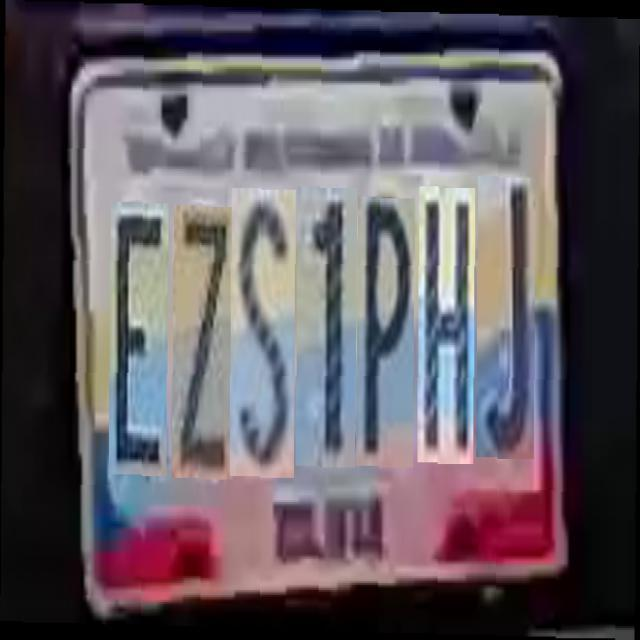1: (294, 179, 354, 459)
E: (108, 200, 166, 473)
H: (417, 176, 472, 452)
J: (475, 164, 533, 445)
P: (355, 188, 412, 457)
S: (229, 183, 293, 471)
Z: (172, 202, 232, 474)
